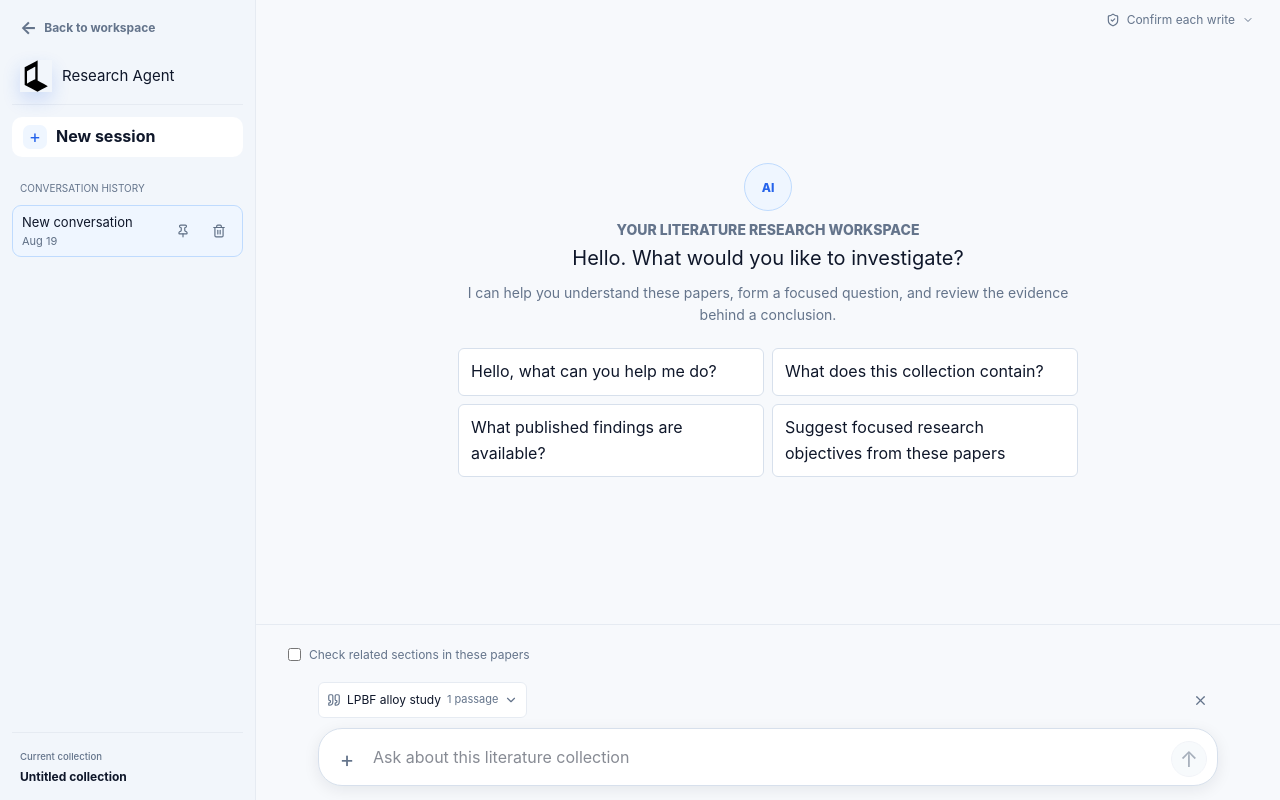
Test: collections/[id]/assistant Research Agent › consumes Source handoff only when recovery confirms persistence: true
In the text box named "Message": (768, 757) [373,737,1163,777], type "Explain this grain-size result"
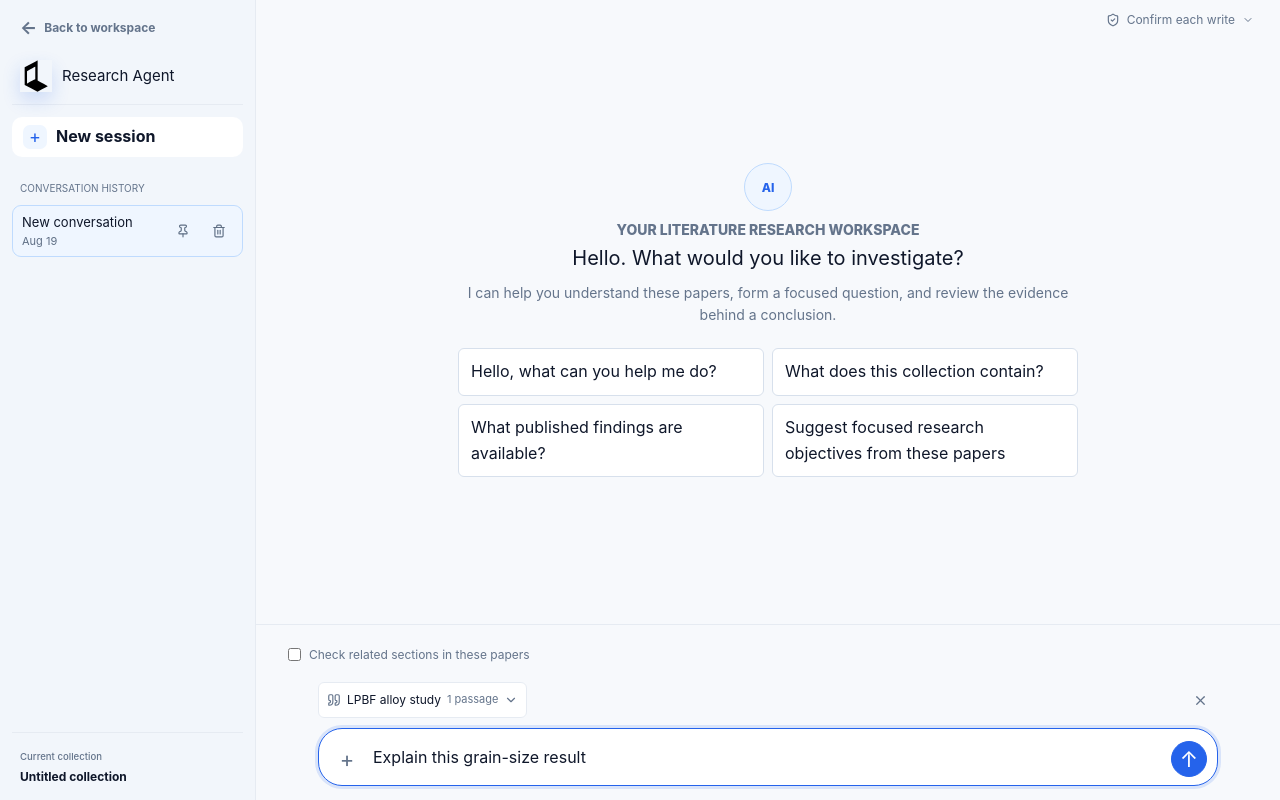
Click the button named "Send": (1189, 759) [1171,741,1207,777]
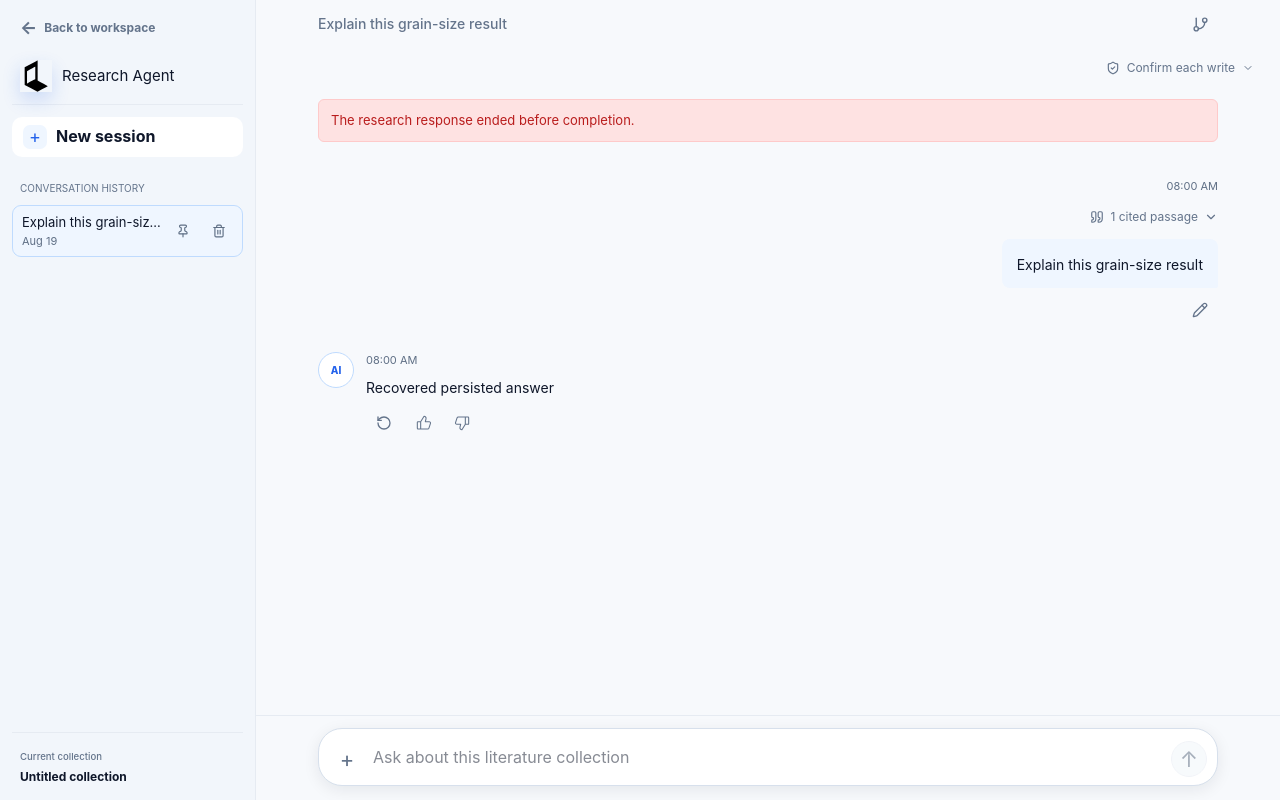
Now the message "The research response ended before completion." is shown, box [318,99,1218,142]
Now the text "Recovered persisted answer" is shown, box [366,379,554,396]
In the text box named "Message": (768, 757) [373,737,1163,777], type "List all papers"
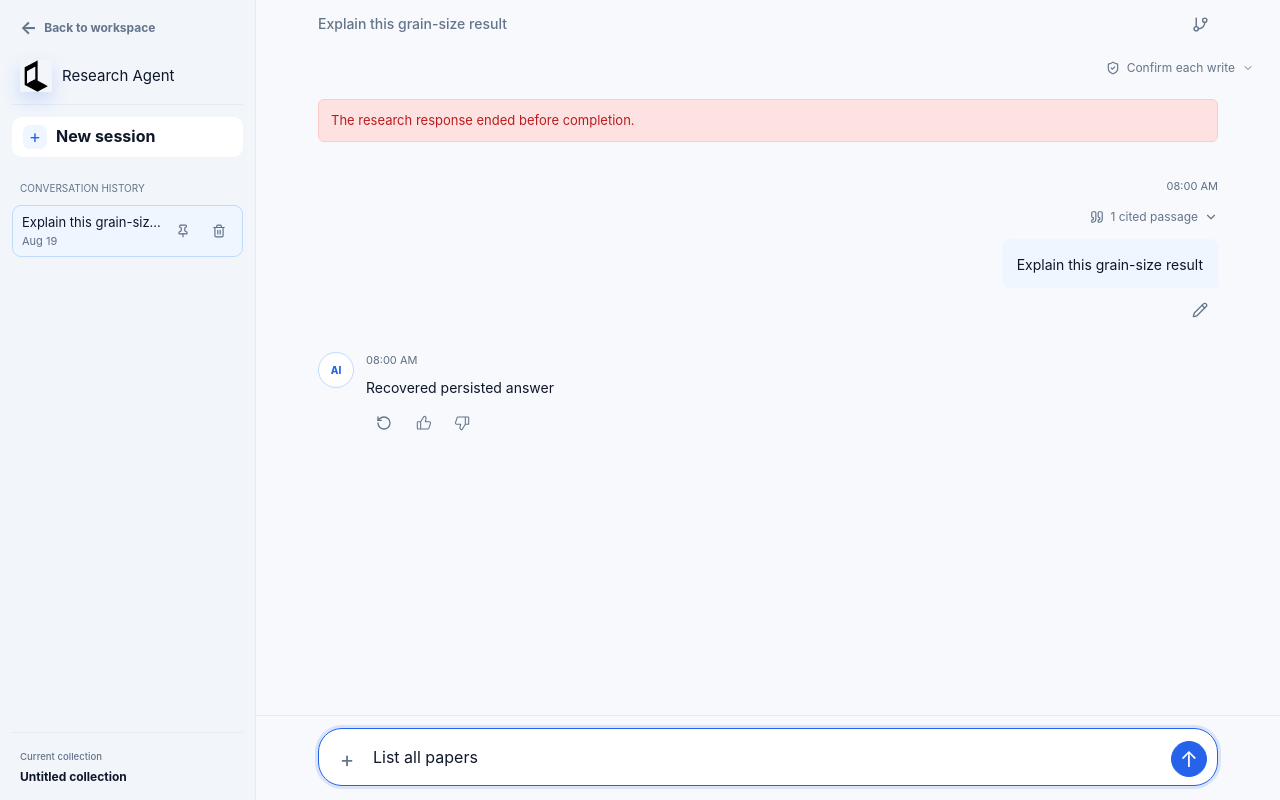
Click the button named "Send": (1189, 759) [1171,741,1207,777]
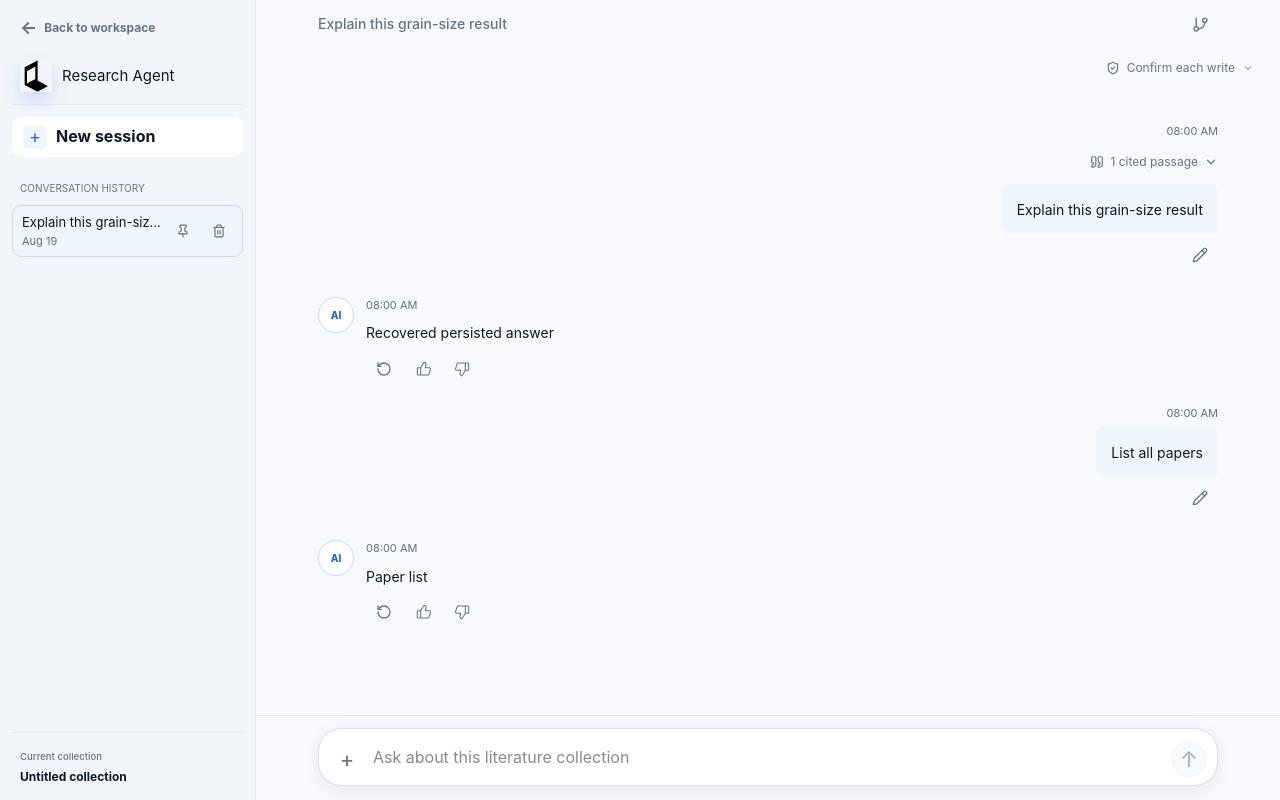
Now the text "Paper list" is shown, box [366,568,428,585]
